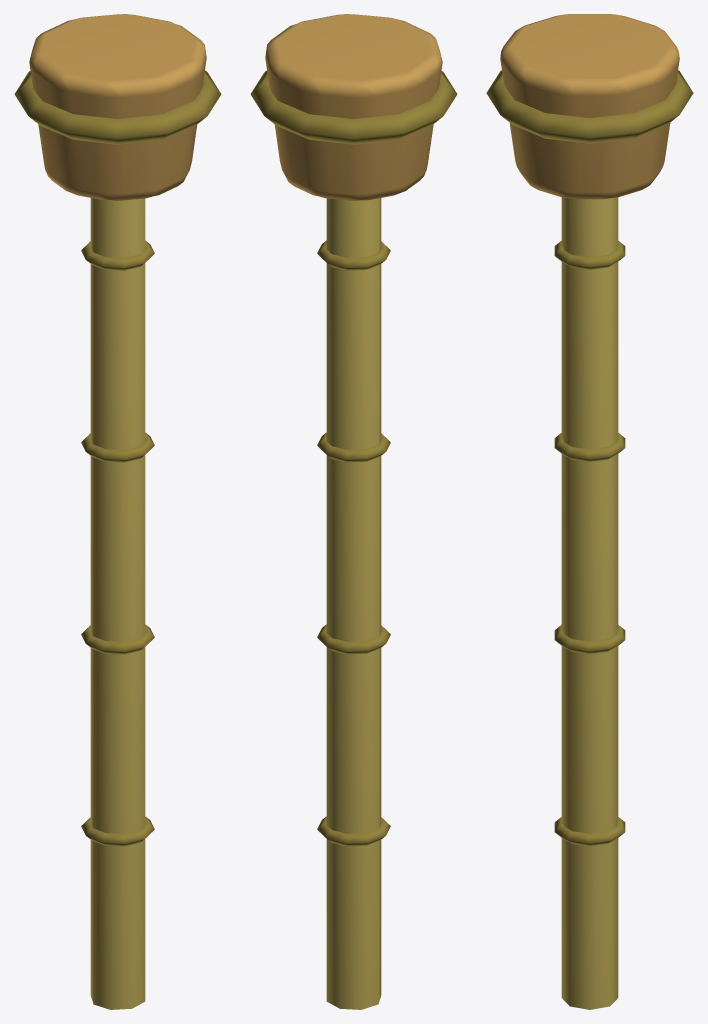
The model's file is jungle_tiki_torch.glb.
3 renders of one model, left to right at view 1: azimuth 30°, elevation 25°; view 2: azimuth 150°, elevation 25°; view 3: azimuth 270°, elevation 25°, orthographic.
Visible parts, largest first — view 1: TikiTorch; view 2: TikiTorch; view 3: TikiTorch.
Boxes of the visible parts, bbox=[...] form: TikiTorch: bbox=[14, 14, 221, 1009]; TikiTorch: bbox=[250, 14, 457, 1009]; TikiTorch: bbox=[486, 14, 693, 1009].
Size of the model in its own units: 0.44 by 2.23 by 0.44.
